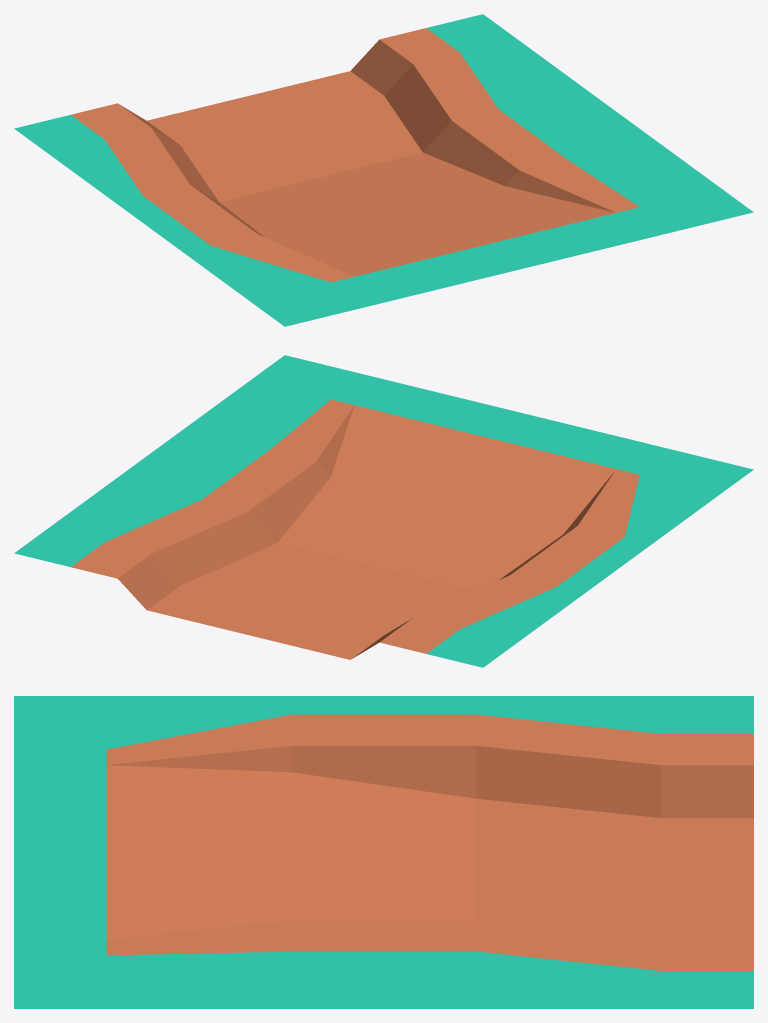
The model's file is ground_pathEnd.dae.
The picture shows the model from 3 angles, top to bottom: view 1: azimuth 30°, elevation 25°; view 2: azimuth 150°, elevation 25°; view 3: azimuth 270°, elevation 25°; orthographic projection. The views are drawn at different scales.
Visible parts, largest first — view 1: ground_pathEnd; view 2: ground_pathEnd; view 3: ground_pathEnd.
Boxes of the visible parts, <box> form: ground_pathEnd: <box>14,14,753,326</box>; ground_pathEnd: <box>14,355,753,667</box>; ground_pathEnd: <box>14,696,753,1008</box>.
Bounding box in the file's own units: 1 × 0.05 × 1.
